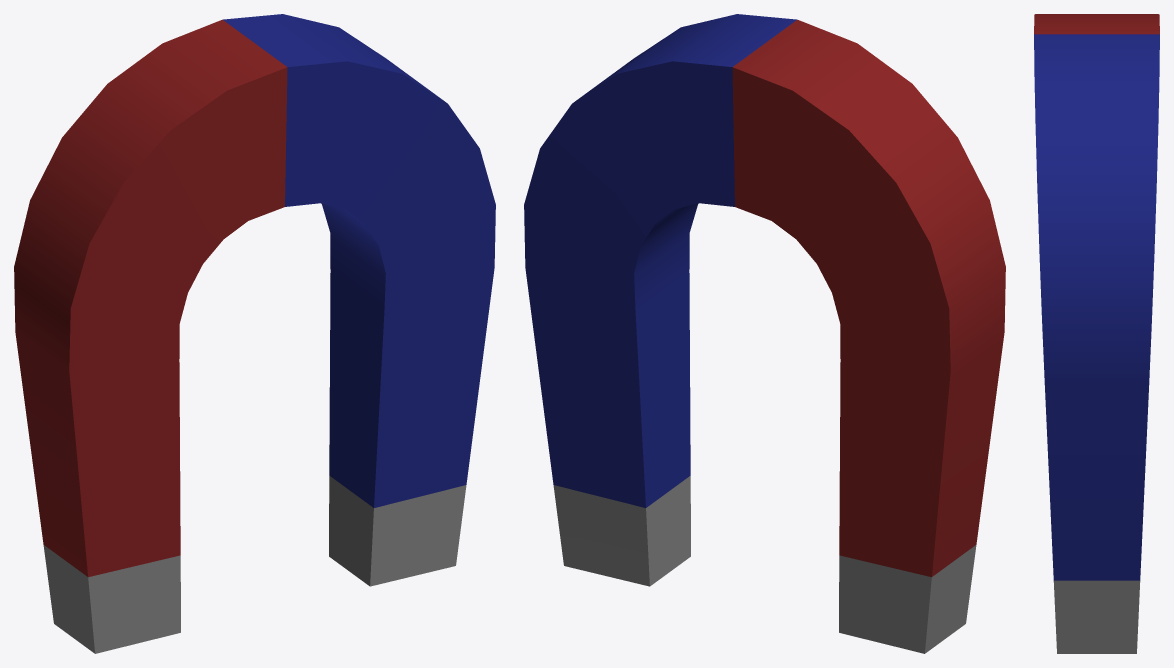
Rendered from toy_magnet_01.fbx.
The picture shows the model from 3 angles, left to right: view 1: azimuth 30°, elevation 25°; view 2: azimuth 150°, elevation 25°; view 3: azimuth 270°, elevation 25°; orthographic projection. The views are drawn at different scales.
Visible parts, largest first — view 1: toy_magnet_01; view 2: toy_magnet_01; view 3: toy_magnet_01.
Part boxes in pixels (x1,y1,x2,y2): toy_magnet_01: [14, 14, 495, 653]; toy_magnet_01: [524, 14, 1005, 653]; toy_magnet_01: [1034, 14, 1159, 653].
Bounding box in the file's own units: 50.54 × 62.62 × 13.38.
